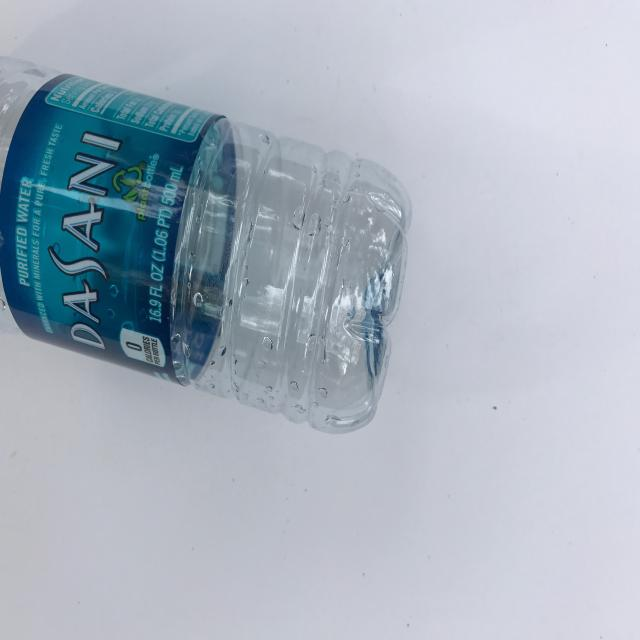plastic: (0, 54, 412, 434)
